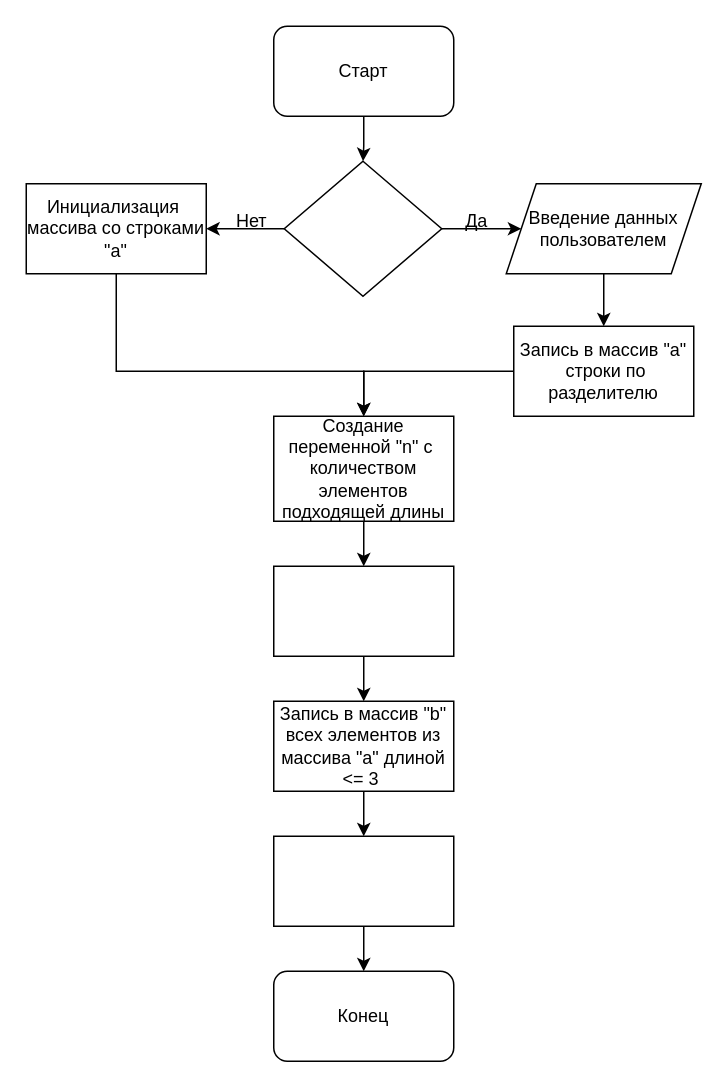
The diagram is 728 pixels wide and 1088 high, and some of its shapes have lost their labels. The shapes that lost their labels are listed below. From the top down, each one's centre as x and y in pixels, then its label:
point (362, 228): Будут ли вводится данные?
point (363, 610): Инициализация массива "b" длиной равной "n"
point (363, 880): Печать массива "b"
